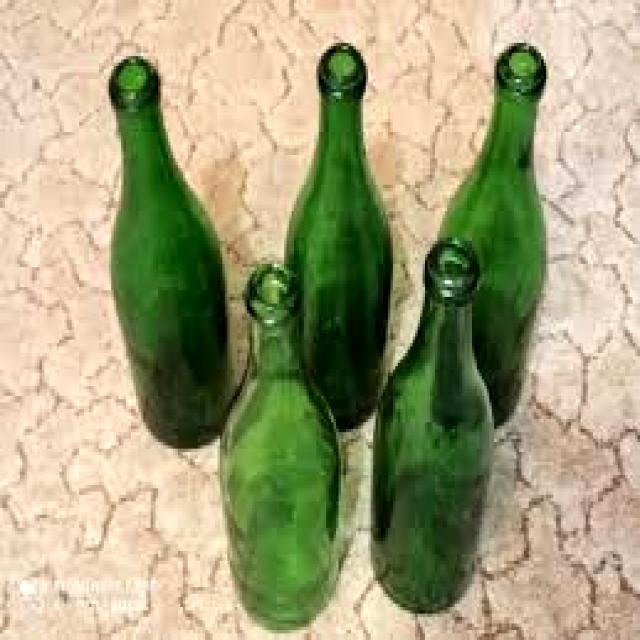Glass: (104, 49, 237, 452), (222, 258, 343, 630), (376, 234, 494, 612), (282, 37, 393, 431), (442, 39, 552, 424)
